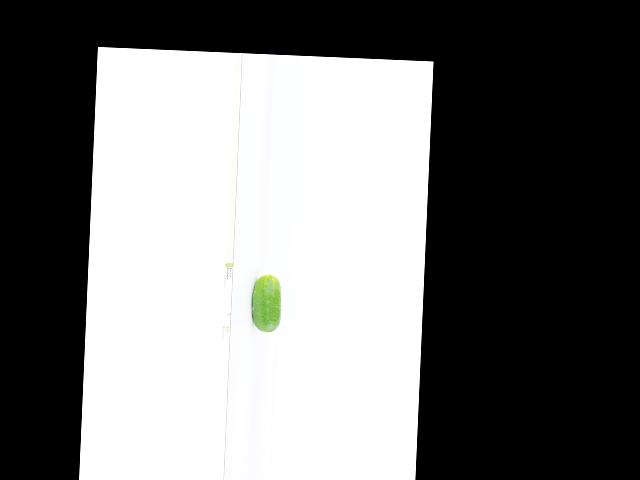cucumber: (250, 274, 281, 333)
